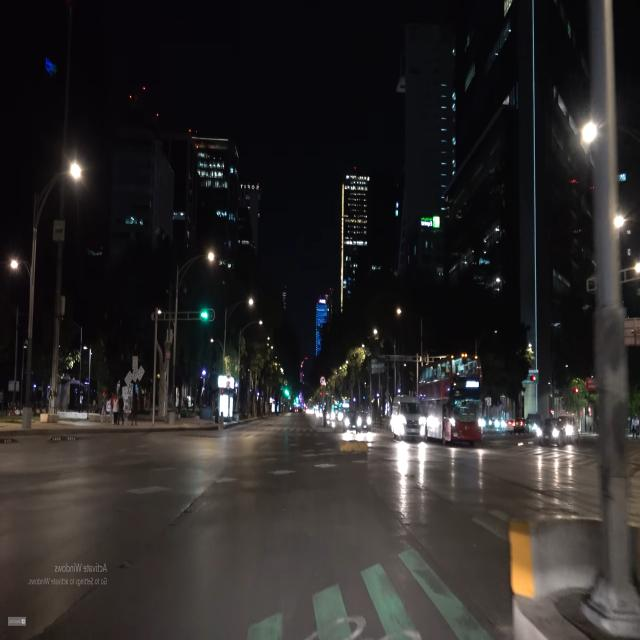headlights: (442, 411, 487, 438), (390, 410, 428, 437), (534, 422, 563, 444), (356, 412, 375, 432)
